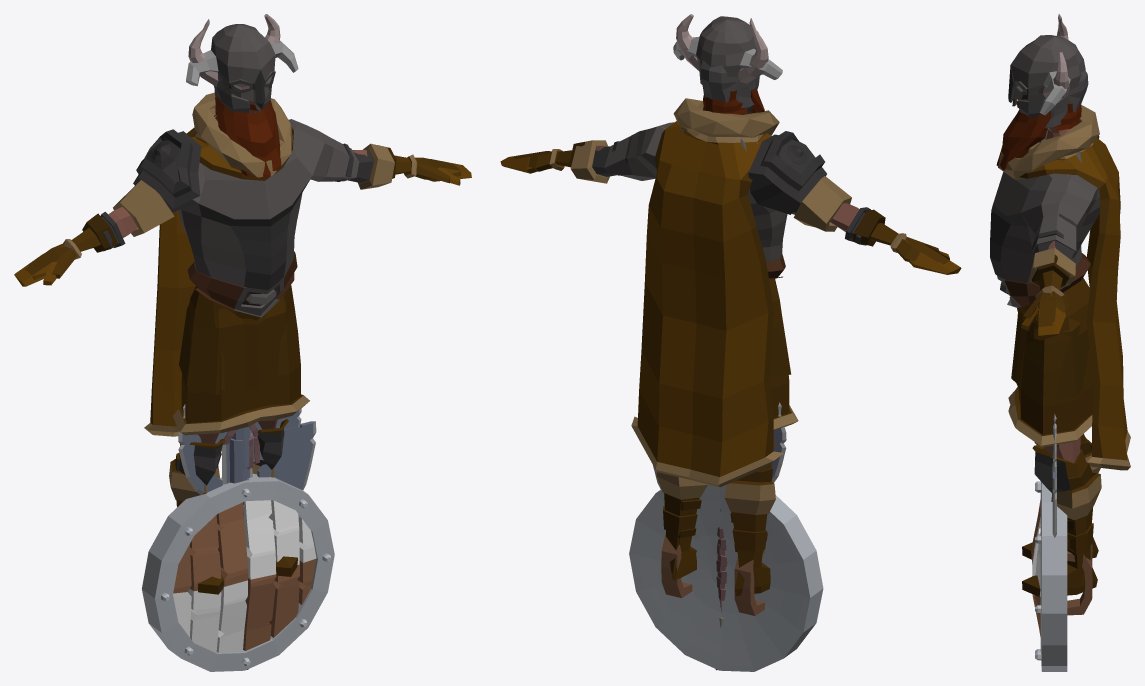
File: VikingALL.gltf
3 views of the same model, side by side, from view 1: azimuth 30°, elevation 25°; view 2: azimuth 150°, elevation 25°; view 3: azimuth 270°, elevation 25° (orthographic). The views are drawn at different scales.
Visible parts, largest first — view 1: Shield_Round_2, Shirt_Cylinder.006, Skirt_Cylinder.001, Cape_Cylinder.008, Skirt_Cylinder.011, Helmet_Cylinder.001, Shoulder_Cylinder.003, Gloves_Cylinder.008, Axe_small, NurbsCurve, Beard_Cylinder.013, Belt_Cylinder.003 (+6 smaller); view 2: Cape_Cylinder.008, Shield_Round_2, Shirt_Cylinder.006, Boots_Cylinder.009, Shoulder_Cylinder.003, Helmet_Cylinder.001, Helmet_Cylinder.002, Gloves_Cylinder.008, NurbsCurve, Skirt_Cylinder.001, Gloves_Cylinder.011, Boots_Cylinder.004 (+2 smaller); view 3: Cape_Cylinder.008, Shirt_Cylinder.006, Skirt_Cylinder.001, Shield_Round_2, Helmet_Cylinder.001, Boots_Cylinder.009, Skirt_Cylinder.011, NurbsCurve, Boots_Cylinder.004, Helmet_Cylinder.002, Beard_Cylinder.013, Gloves_Cylinder.008 (+5 smaller).
Boxes of the visible parts, x1,y1,x2,y2 form: Shield_Round_2: (142,473,334,671); Shirt_Cylinder.006: (113,119,394,289); Skirt_Cylinder.001: (173,285,309,435); Cape_Cylinder.008: (144,115,293,436); Skirt_Cylinder.011: (179,295,293,395); Helmet_Cylinder.001: (186,24,298,115); Shoulder_Cylinder.003: (133,129,201,208); Gloves_Cylinder.008: (25,145,461,279); Axe_small: (229,421,316,649); NurbsCurve: (192,92,292,177); Beard_Cylinder.013: (215,97,281,177); Belt_Cylinder.003: (187,251,297,317); Cape_Cylinder.008: (631,121,783,487); Shield_Round_2: (629,484,823,671); Shirt_Cylinder.006: (570,122,851,261); Boots_Cylinder.009: (656,472,775,596); Shoulder_Cylinder.003: (748,131,826,214); Helmet_Cylinder.001: (673,16,782,114); Helmet_Cylinder.002: (676,14,768,114); Gloves_Cylinder.008: (512,142,949,264); NurbsCurve: (673,98,779,137); Skirt_Cylinder.001: (769,278,798,430); Gloves_Cylinder.011: (500,149,961,274); Boots_Cylinder.004: (675,442,775,579); Cape_Cylinder.008: (1019,125,1130,470); Shirt_Cylinder.006: (990,172,1100,288); Skirt_Cylinder.001: (1008,278,1093,446); Shield_Round_2: (1031,481,1092,671); Helmet_Cylinder.001: (1008,35,1085,130); Boots_Cylinder.009: (1022,439,1101,596); Skirt_Cylinder.011: (1011,292,1088,399); NurbsCurve: (998,104,1099,179); Boots_Cylinder.004: (1032,434,1094,558); Helmet_Cylinder.002: (1012,14,1088,127); Beard_Cylinder.013: (996,101,1051,170); Gloves_Cylinder.008: (1022,255,1070,329).
Bounding box in the file's own units: 3.17 × 4.42 × 0.8826.
